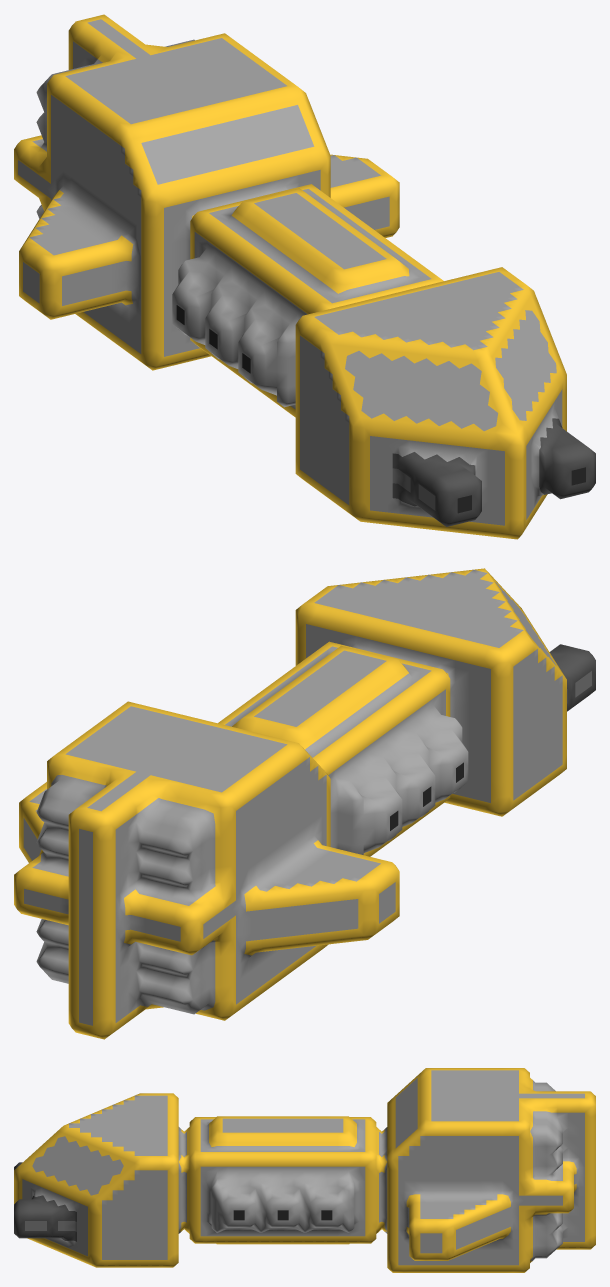
The model's file is mechyrdia-1-blitz-class.obj.
3 views of the same model, one above another, from view 1: azimuth 30°, elevation 25°; view 2: azimuth 150°, elevation 25°; view 3: azimuth 270°, elevation 25° (orthographic). The views are drawn at different scales.
Bounding box in the file's own units: 25 × 15 × 53.
1 material, 1 textured.
